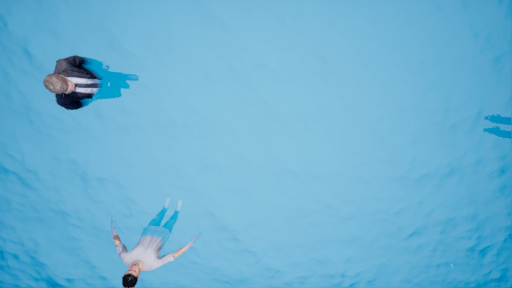person: (108, 194, 199, 282), (46, 52, 151, 116)
